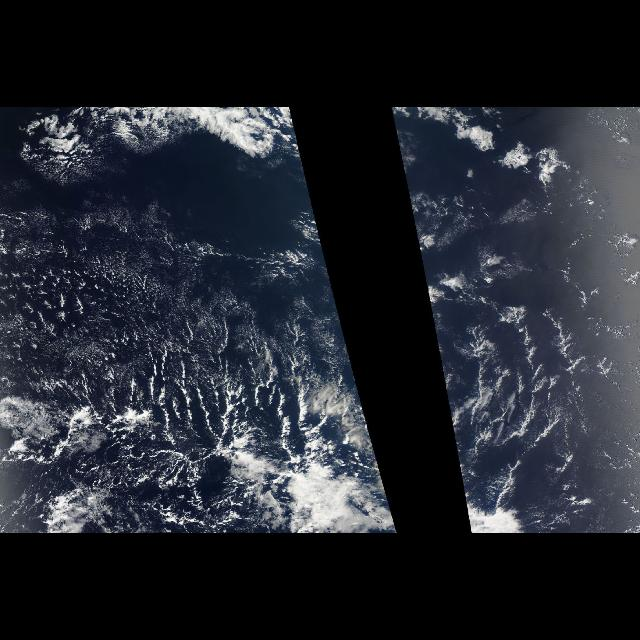Gravel: (8, 204, 366, 410), (409, 204, 639, 410)
Sugar: (2, 223, 308, 452)
